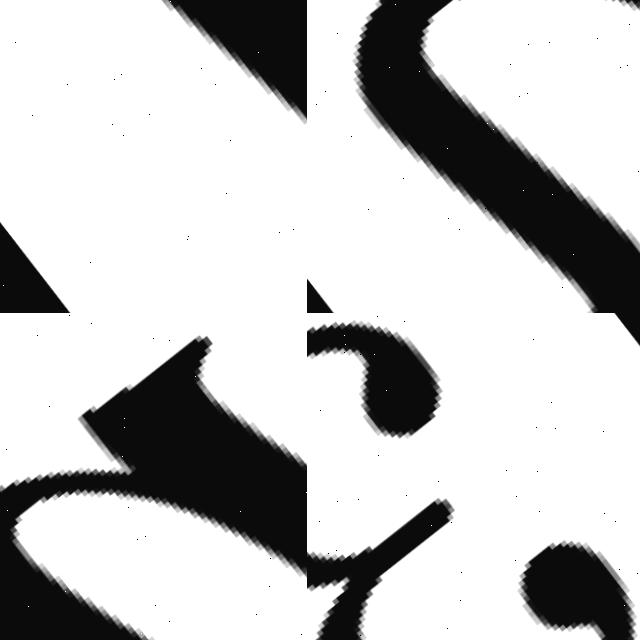3: (307, 313, 640, 640)
I: (14, 0, 307, 291)
N: (307, 0, 640, 313), (0, 313, 307, 640)
